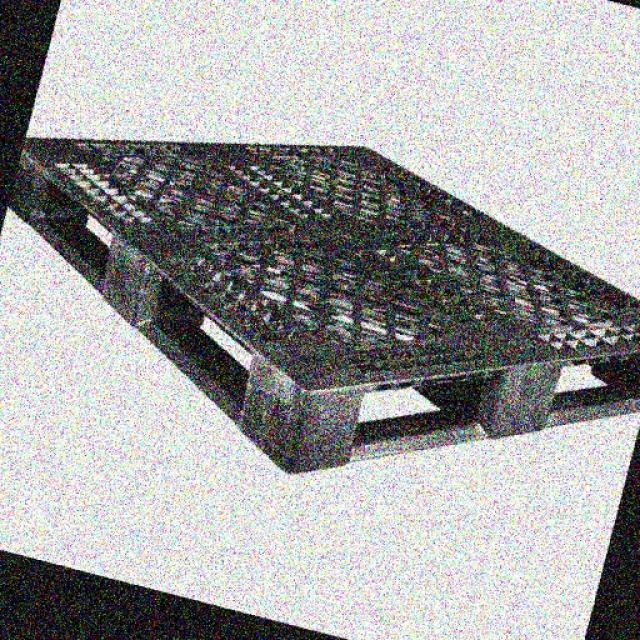non-igps: (4, 123, 640, 481)
